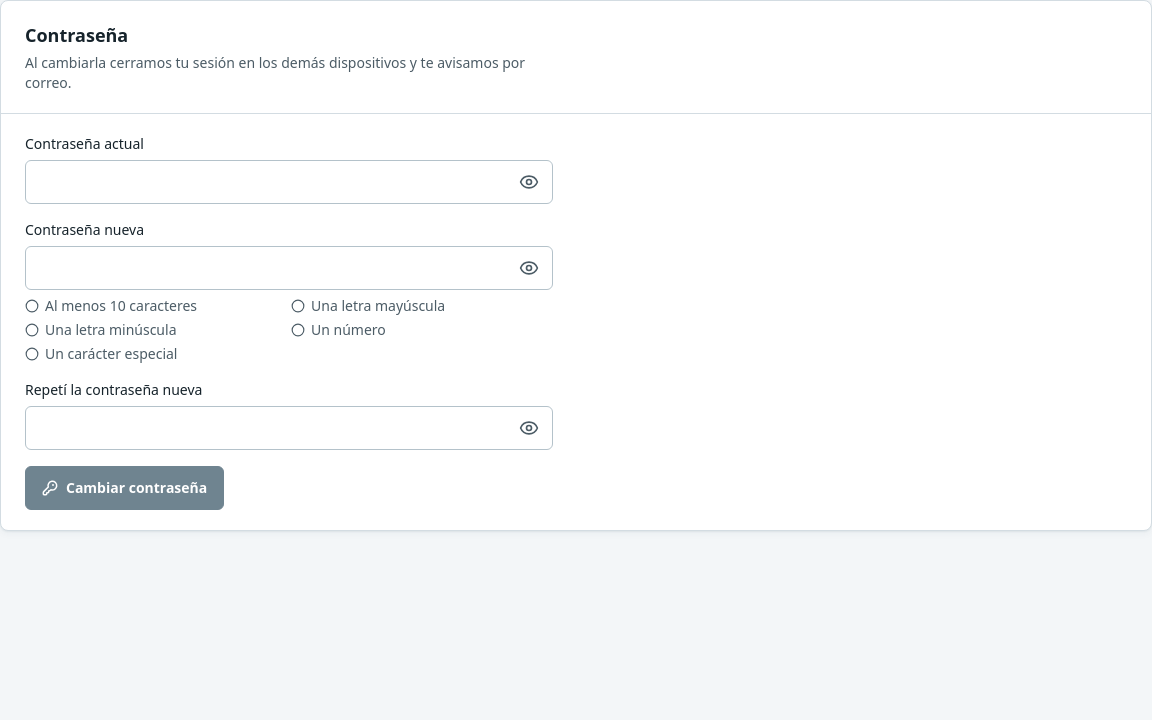
Test: contraseña › pide la actual, una nueva que cumpla la política y la repetición
Type "Prueba-Segura-2026!" into the password field labelled "Contraseña actual" at (289, 182), box [25,160,553,204]
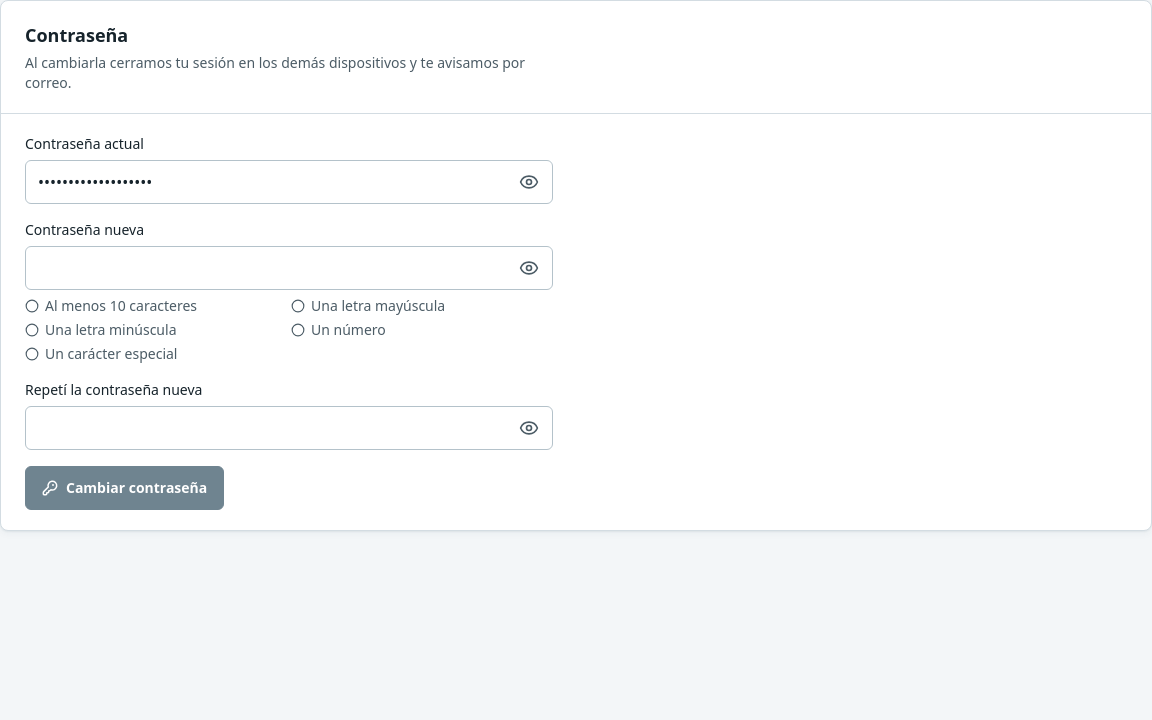
Type "corta" into the password field labelled "Contraseña nueva" at (289, 268), box [25,246,553,290]
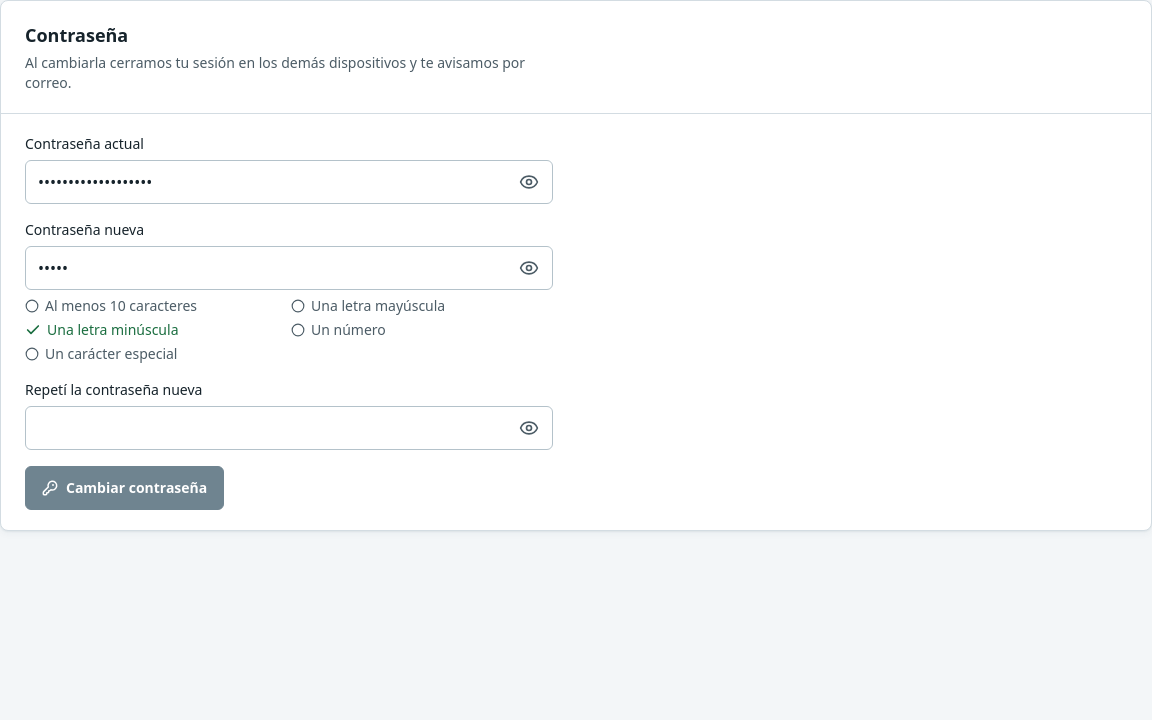
Expected: the button "Cambiar contraseña" is disabled, [25,466,224,510]
Type "Otra-Clave-Segura-2026!" into the password field labelled "Contraseña nueva" at (289, 268), box [25,246,553,290]
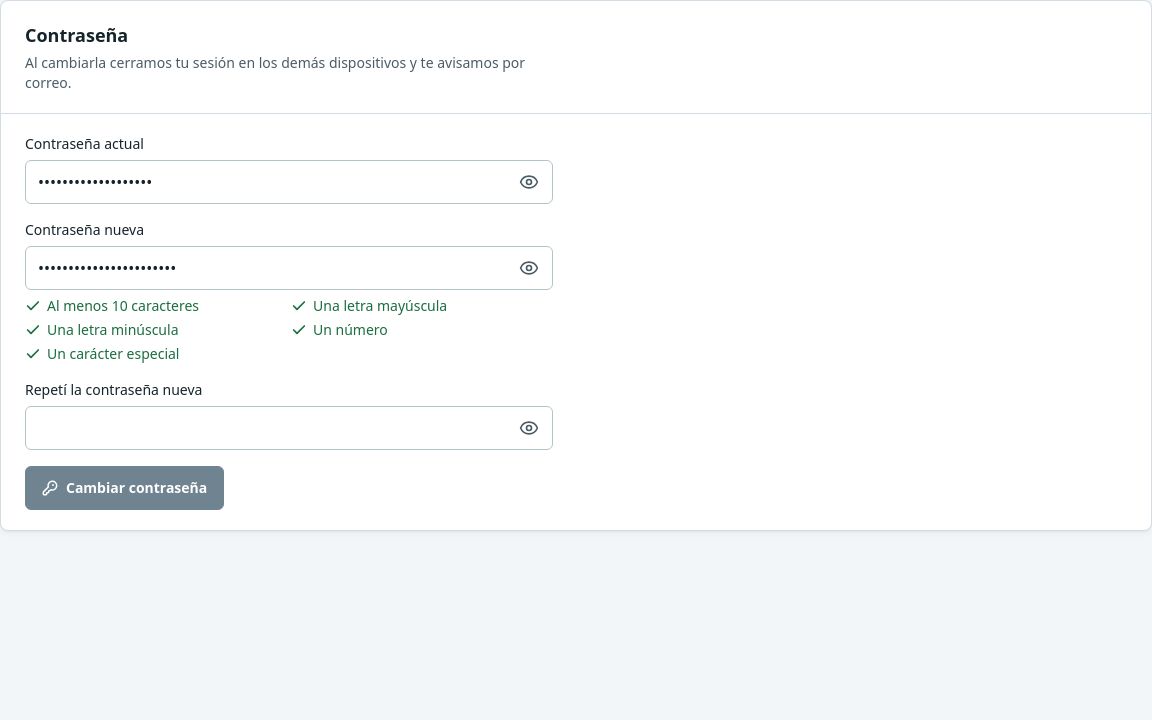
Type "Otra-Clave-Distinta-2026!" into the password field labelled "Repetí la contraseña nueva" at (289, 428), box [25,406,553,450]
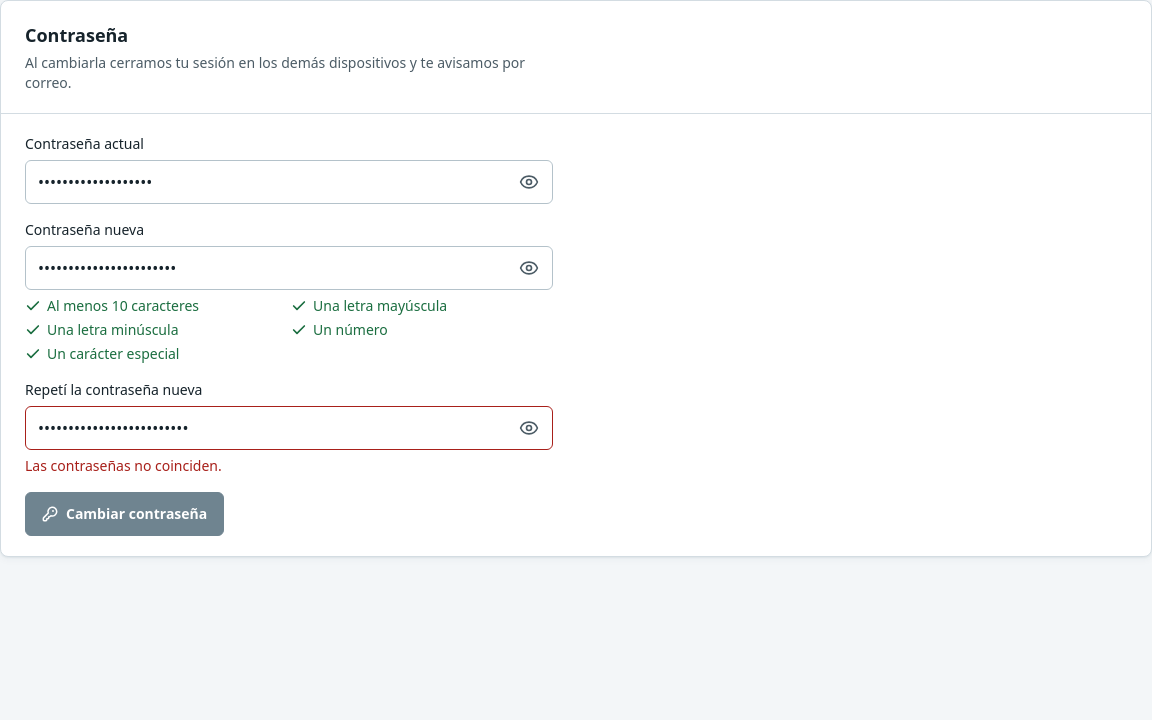
Expected: the button "Cambiar contraseña" is disabled, [25,492,224,536]
Now the text "Las contraseñas no coinciden." is shown, box [25,456,222,475]
Type "Otra-Clave-Segura-2026!" into the password field labelled "Repetí la contraseña nueva" at (289, 428), box [25,406,553,450]
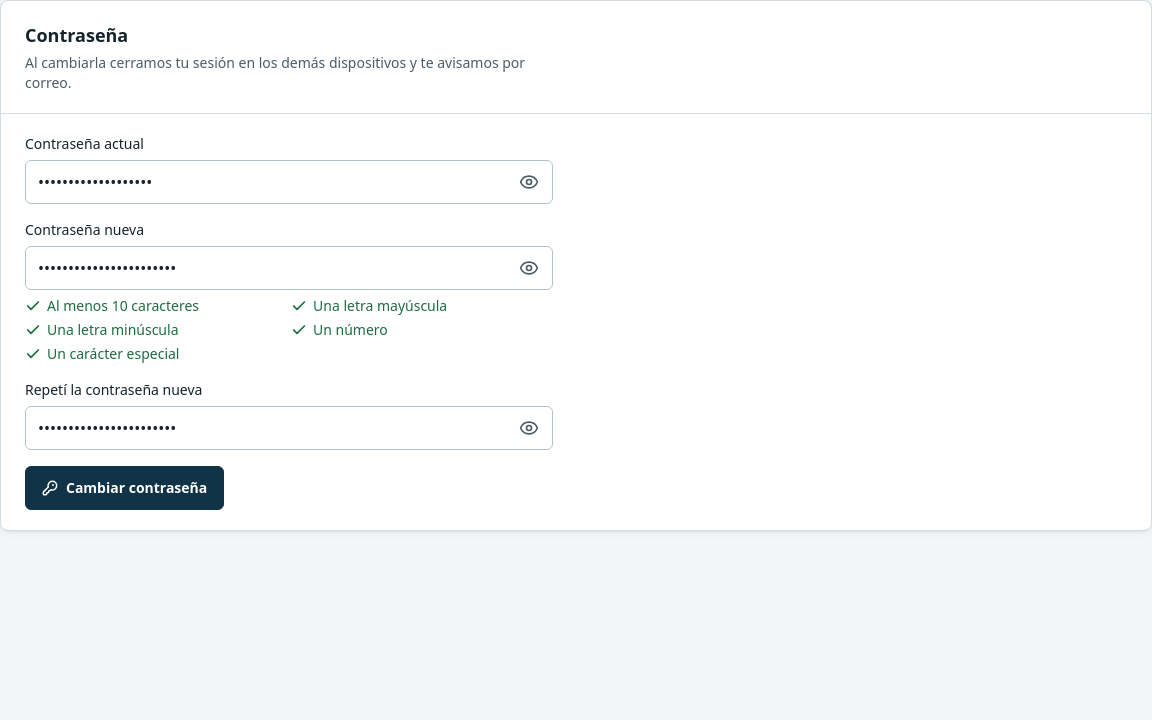
Click the button "Cambiar contraseña" at (125, 488), box [25,466,224,510]
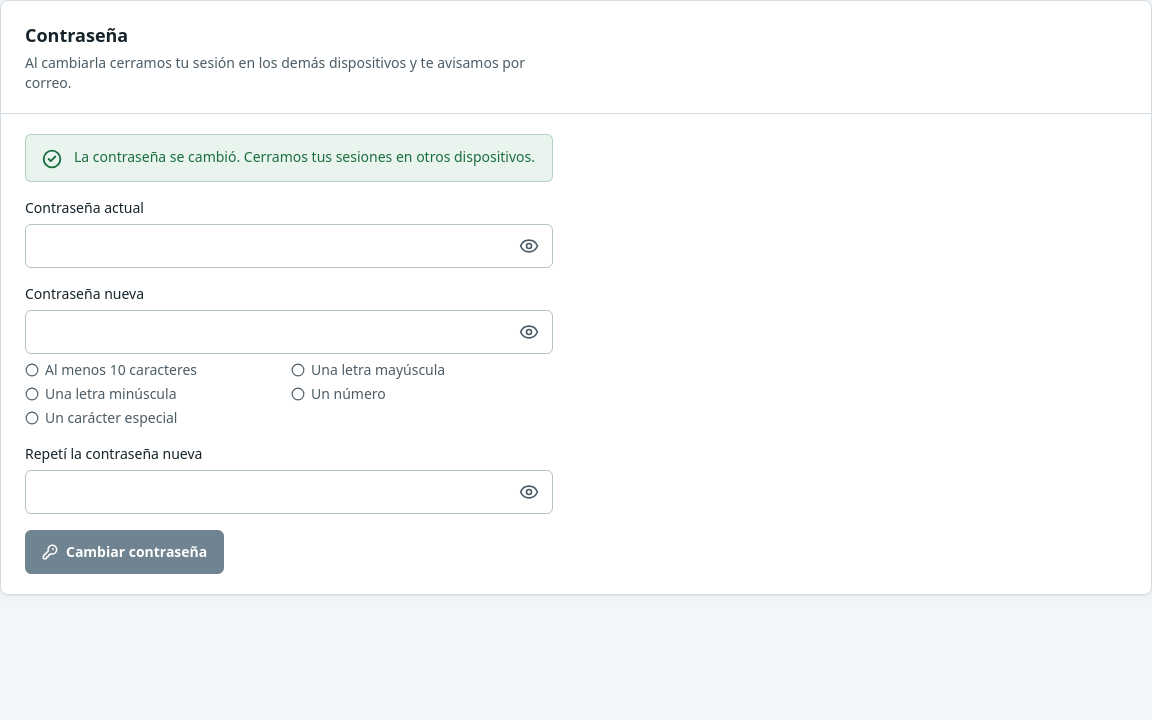
Now the text "La contraseña se cambió" is shown, box [74,147,535,166]
Now the password field labelled "Contraseña actual" is empty, box [25,224,553,268]
